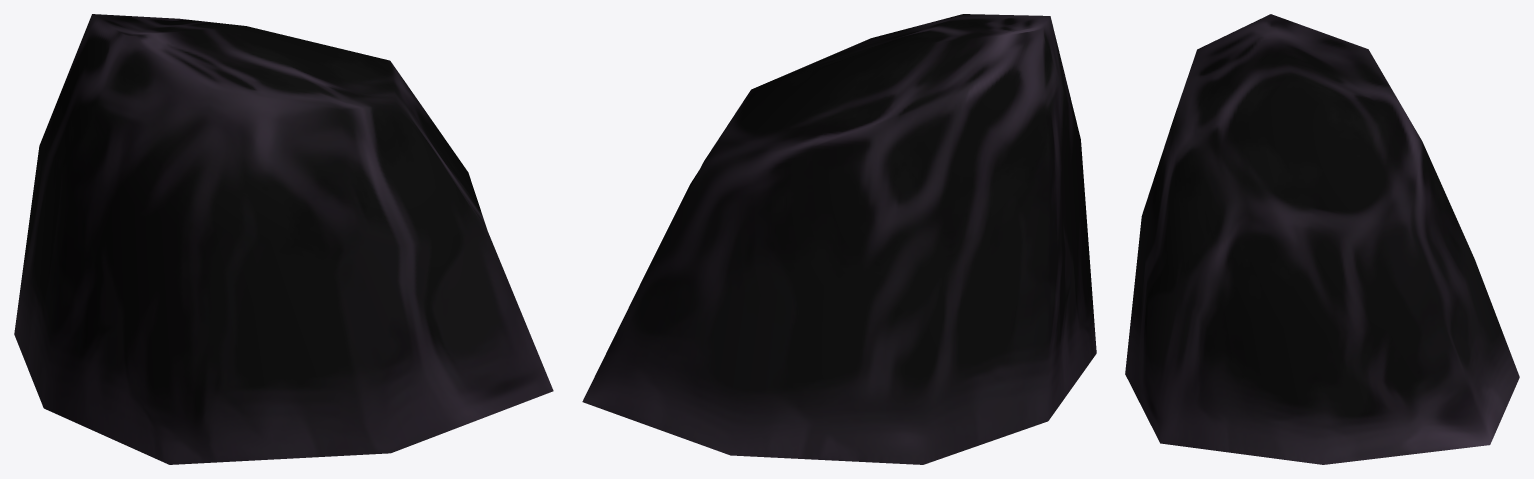
The model's file is Rock1_Rubble.fbx.
3 renders of one model, left to right at view 1: azimuth 30°, elevation 25°; view 2: azimuth 150°, elevation 25°; view 3: azimuth 270°, elevation 25°, orthographic. The views are drawn at different scales.
Visible parts, largest first — view 1: Rock1_LowPoly; view 2: Rock1_LowPoly; view 3: Rock1_LowPoly.
Part boxes in pixels (bbox=[...]): Rock1_LowPoly: bbox=[14, 14, 553, 464]; Rock1_LowPoly: bbox=[582, 14, 1096, 464]; Rock1_LowPoly: bbox=[1125, 14, 1519, 464].
Bounding box in the file's own units: 195 × 158 × 191.
